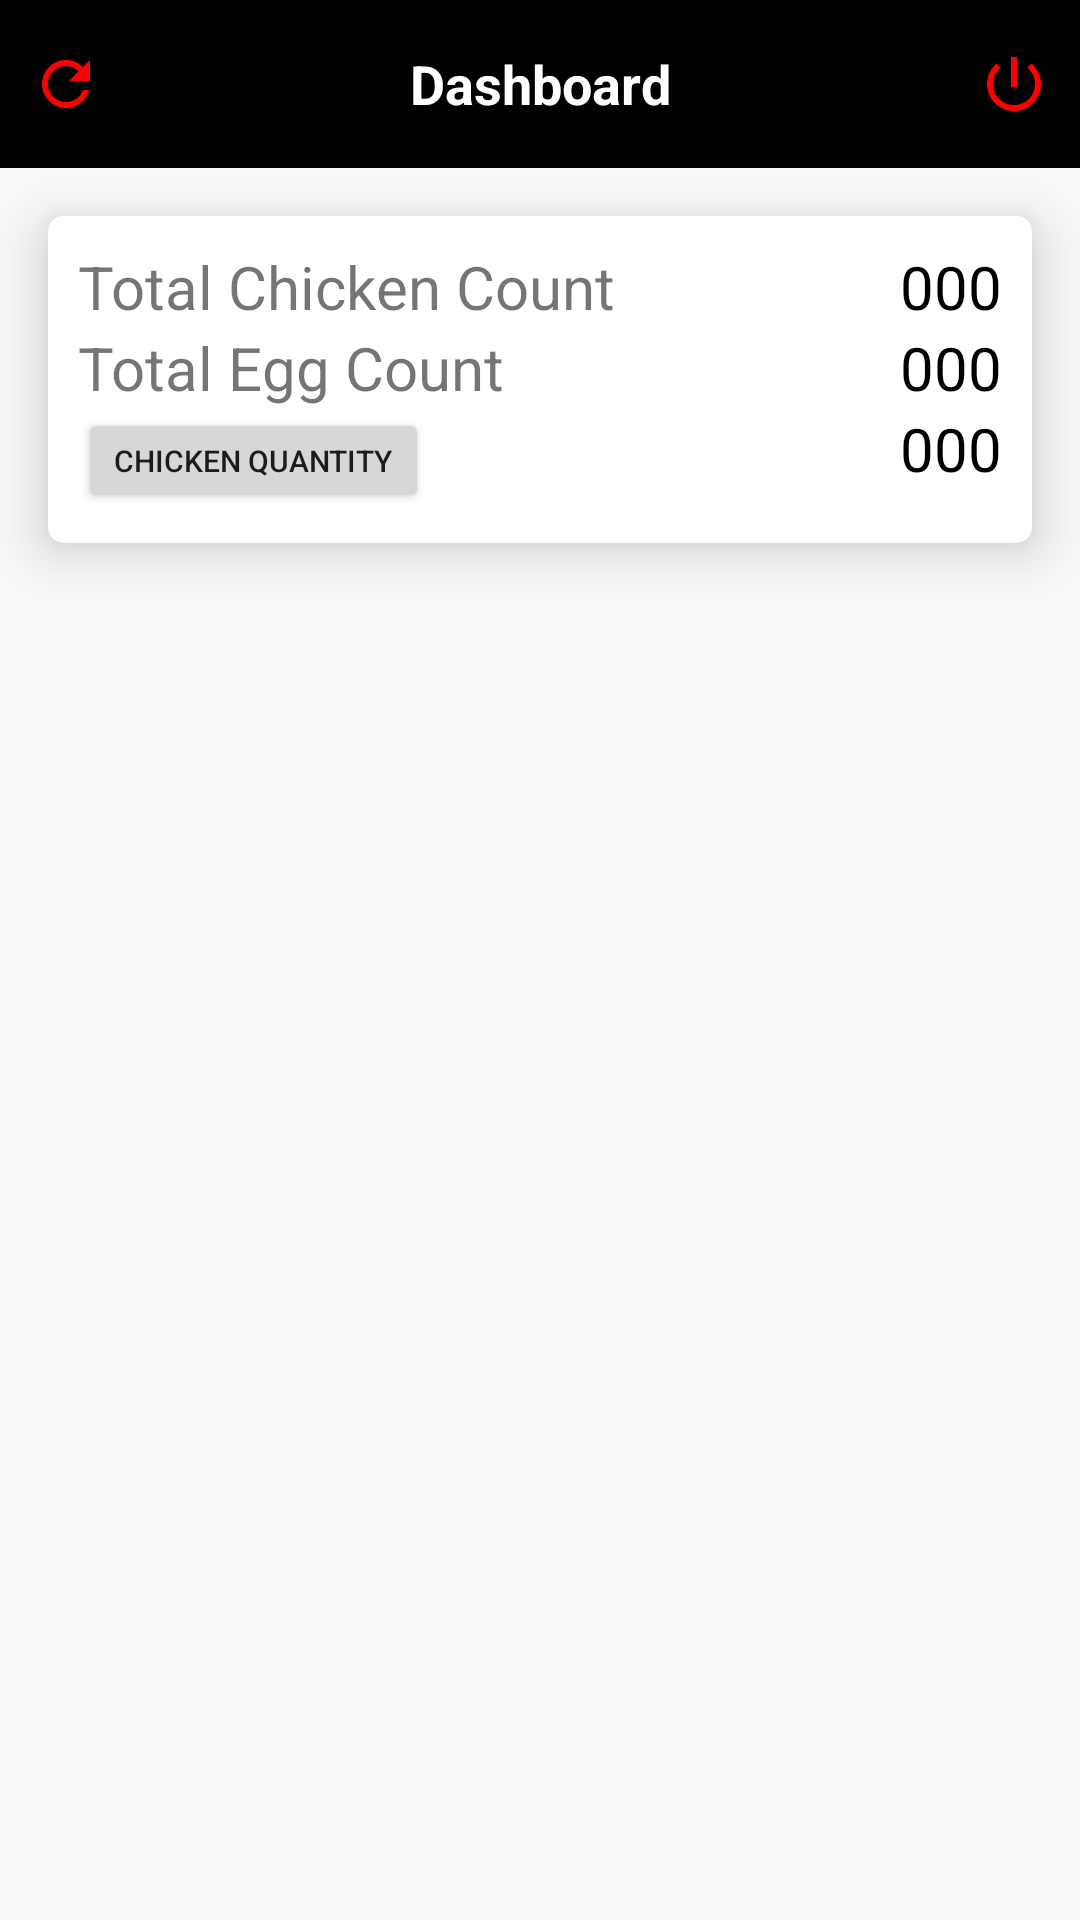

Named icons in this screenshot (1080px x 1920px) and their centers, [x,y]:
refresh: [66,84]
